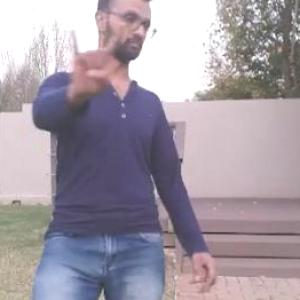takeoff-hand: (56, 17, 124, 111)
